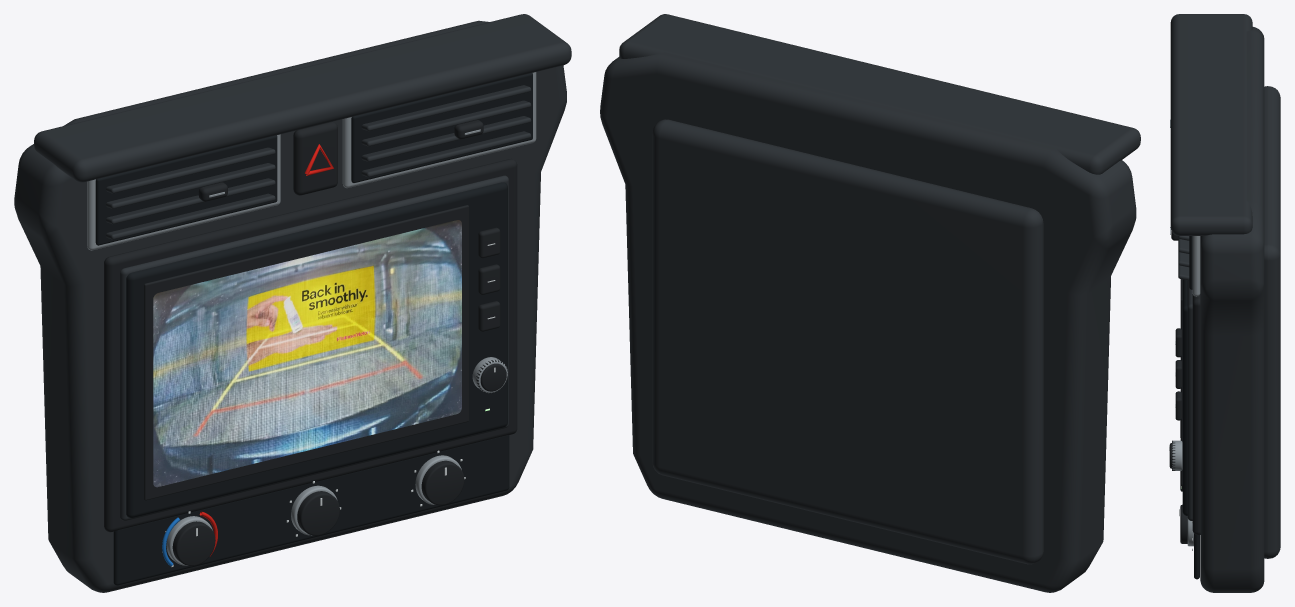
Rendered from back-in-smoothly-monitor.glb.
The picture shows the model from 3 angles, left to right: view 1: azimuth 30°, elevation 25°; view 2: azimuth 150°, elevation 25°; view 3: azimuth 270°, elevation 25°; orthographic projection. The views are drawn at different scales.
Parts seen in each view (by area): view 1: Recessed luminous camera screen, Moulded dashboard centre stack, Dashboard top lip, Gloss black recessed fascia, Climate control recess, Screen mounting recess, Screen recess, Deep air vent well, Deep air vent well.001, Inset satin perimeter, Hazard switch, Air vent satin rim.001 (+12 smaller); view 2: Rear console chassis, Moulded dashboard centre stack, Dashboard top lip; view 3: Moulded dashboard centre stack, Dashboard top lip, Rear console chassis, Screen mounting recess, Inset satin perimeter, Gloss black recessed fascia, Air vent satin rim.001, Screen recess, Volume knob silver ring, Climate control recess, Climate dial rubber grip.002, Physical side key (+4 smaller).
Boxes of the visible parts, x1,y1,x2,y2 form: Recessed luminous camera screen: (153, 220, 461, 487); Moulded dashboard centre stack: (14, 20, 566, 592); Dashboard top lip: (34, 14, 571, 182); Gloss black recessed fascia: (126, 182, 507, 517); Climate control recess: (113, 435, 509, 585); Screen mounting recess: (104, 158, 517, 532); Screen recess: (144, 205, 468, 500); Deep air vent well: (95, 135, 277, 245); Deep air vent well.001: (351, 73, 532, 182); Inset satin perimeter: (120, 175, 508, 520); Hazard switch: (293, 121, 337, 195); Air vent satin rim.001: (342, 72, 536, 187); Rear console chassis: (652, 119, 1043, 564); Moulded dashboard centre stack: (600, 52, 1136, 592); Dashboard top lip: (619, 14, 1140, 174); Moulded dashboard centre stack: (1200, 27, 1264, 592); Dashboard top lip: (1170, 14, 1252, 235); Rear console chassis: (1264, 86, 1280, 558); Screen mounting recess: (1192, 294, 1200, 535); Inset satin perimeter: (1187, 280, 1192, 520); Gloss black recessed fascia: (1182, 279, 1187, 515); Air vent satin rim.001: (1192, 236, 1200, 296); Screen recess: (1180, 279, 1182, 484); Volume knob silver ring: (1172, 440, 1182, 470); Climate control recess: (1194, 534, 1199, 579); Climate dial rubber grip.002: (1180, 504, 1187, 543); Physical side key: (1175, 328, 1182, 357).
Size of the model in its own units: 4.65 by 3.87 by 0.9925.
Materials: 9 (1 with a texture image).
